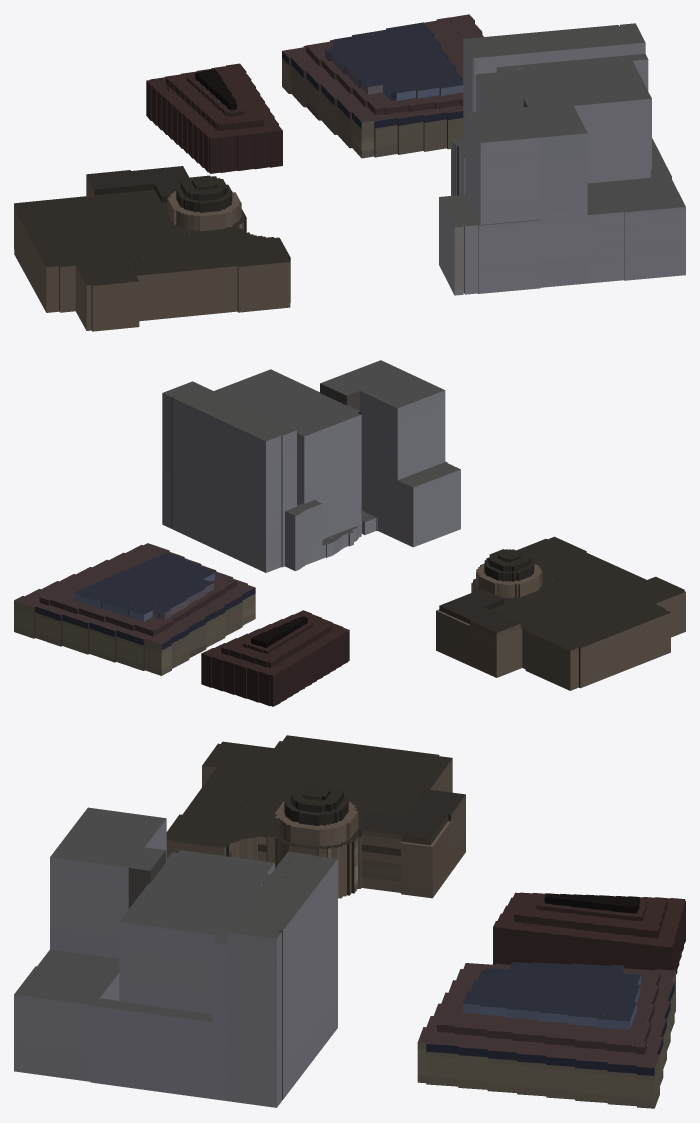
Rendered from t_0_2.far.glb.
The picture shows the model from 3 angles, top to bottom: view 1: azimuth 30°, elevation 25°; view 2: azimuth 150°, elevation 25°; view 3: azimuth 270°, elevation 25°; orthographic projection. The views are drawn at different scales.
Parts seen in each view (by area): view 1: opaque; view 2: opaque; view 3: opaque.
Boxes of the visible parts, bbox=[...] form: opaque: bbox=[14, 14, 685, 331]; opaque: bbox=[14, 360, 685, 706]; opaque: bbox=[14, 735, 685, 1108].
Size of the model in its own units: 253 by 62.05 by 223.
Materials: 1 (1 with a texture image).
